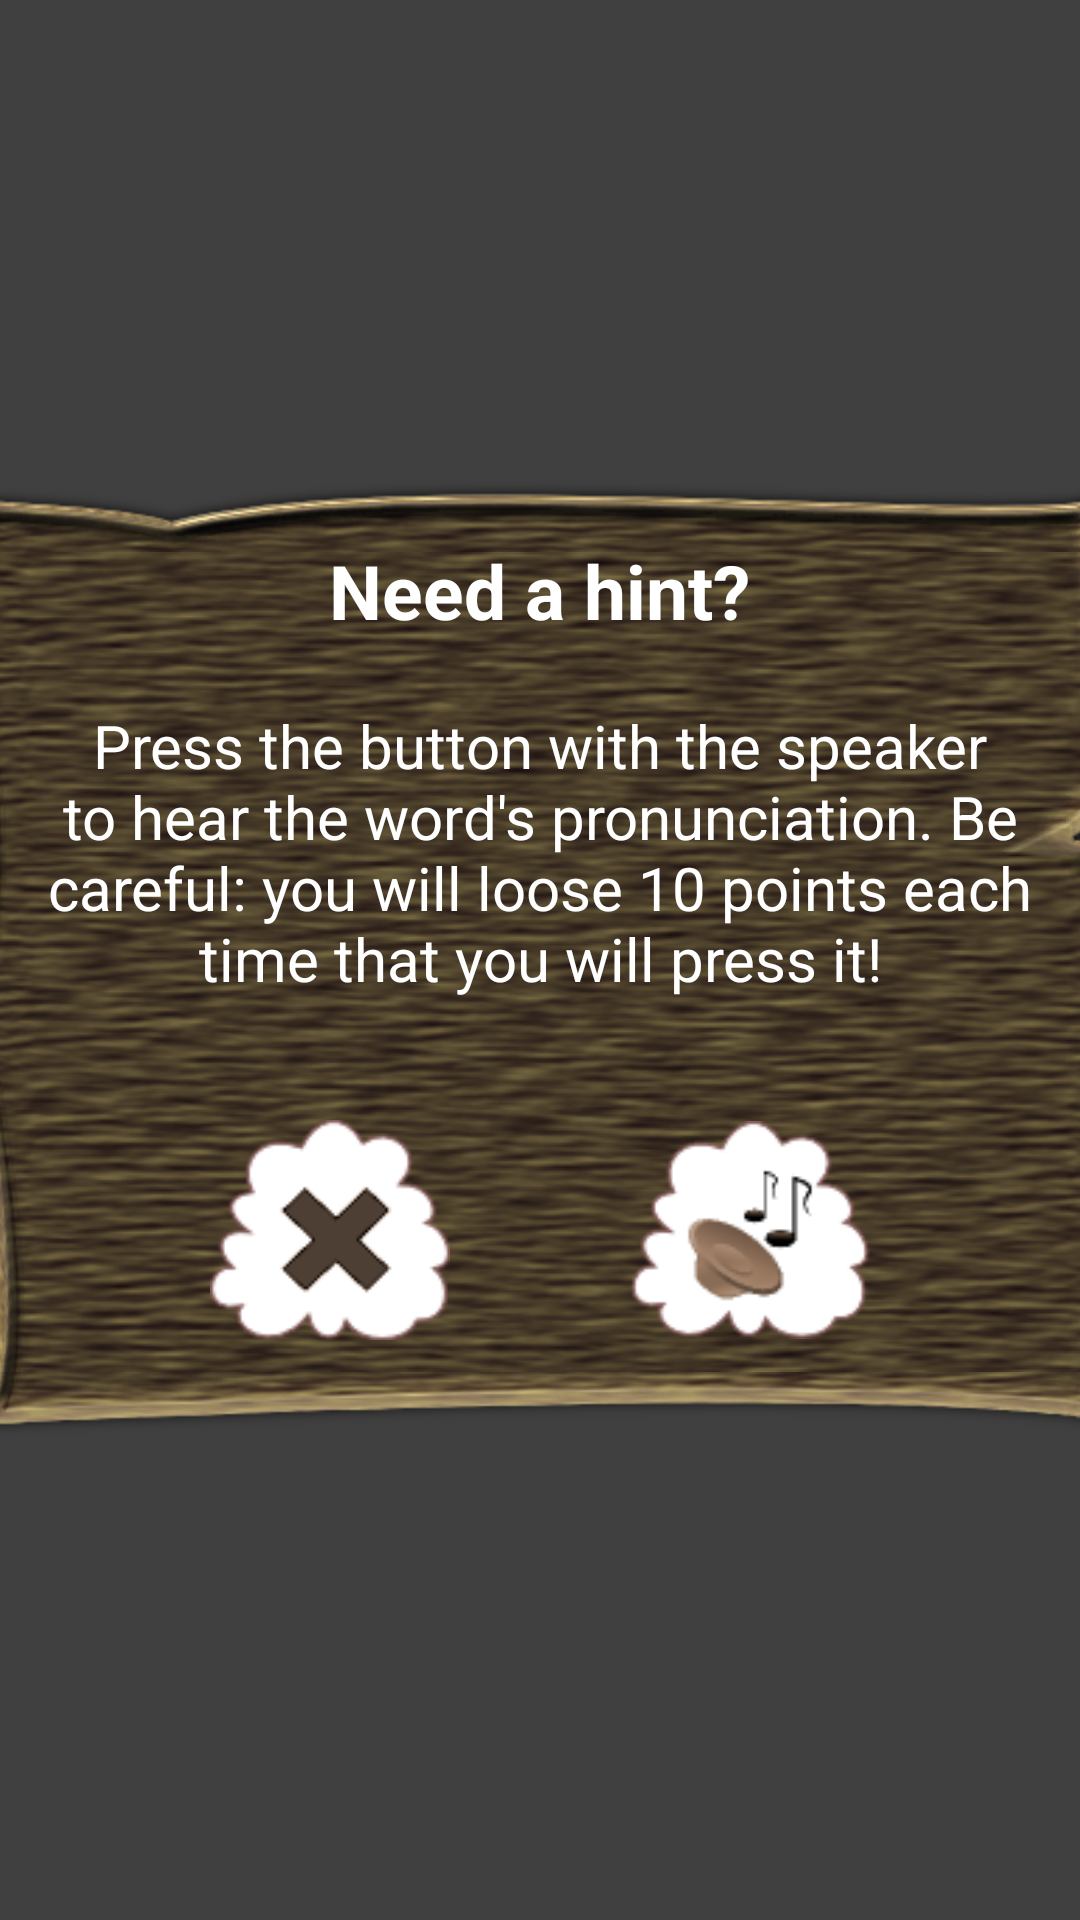

Point at icon controls on the screen. Image size 1080x1920, points as [x,y].
playhint: [750,1231]
quit: [330,1230]
